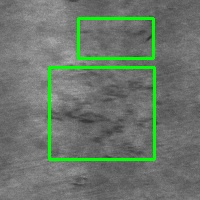rolled-in_scale: (49, 67, 154, 159), (78, 18, 153, 58)
